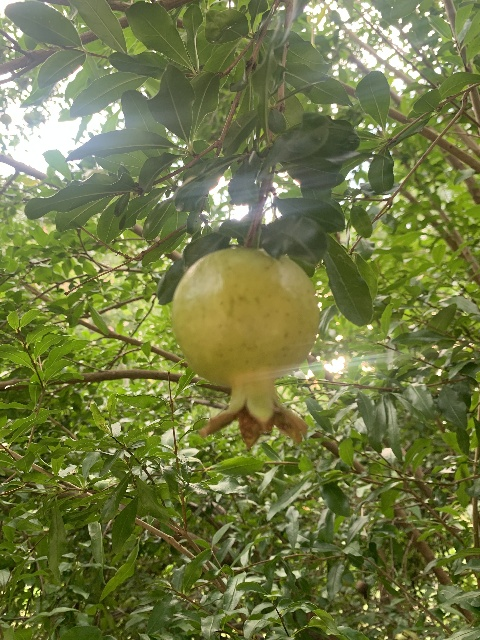mid-growth: (170, 247, 320, 449)
